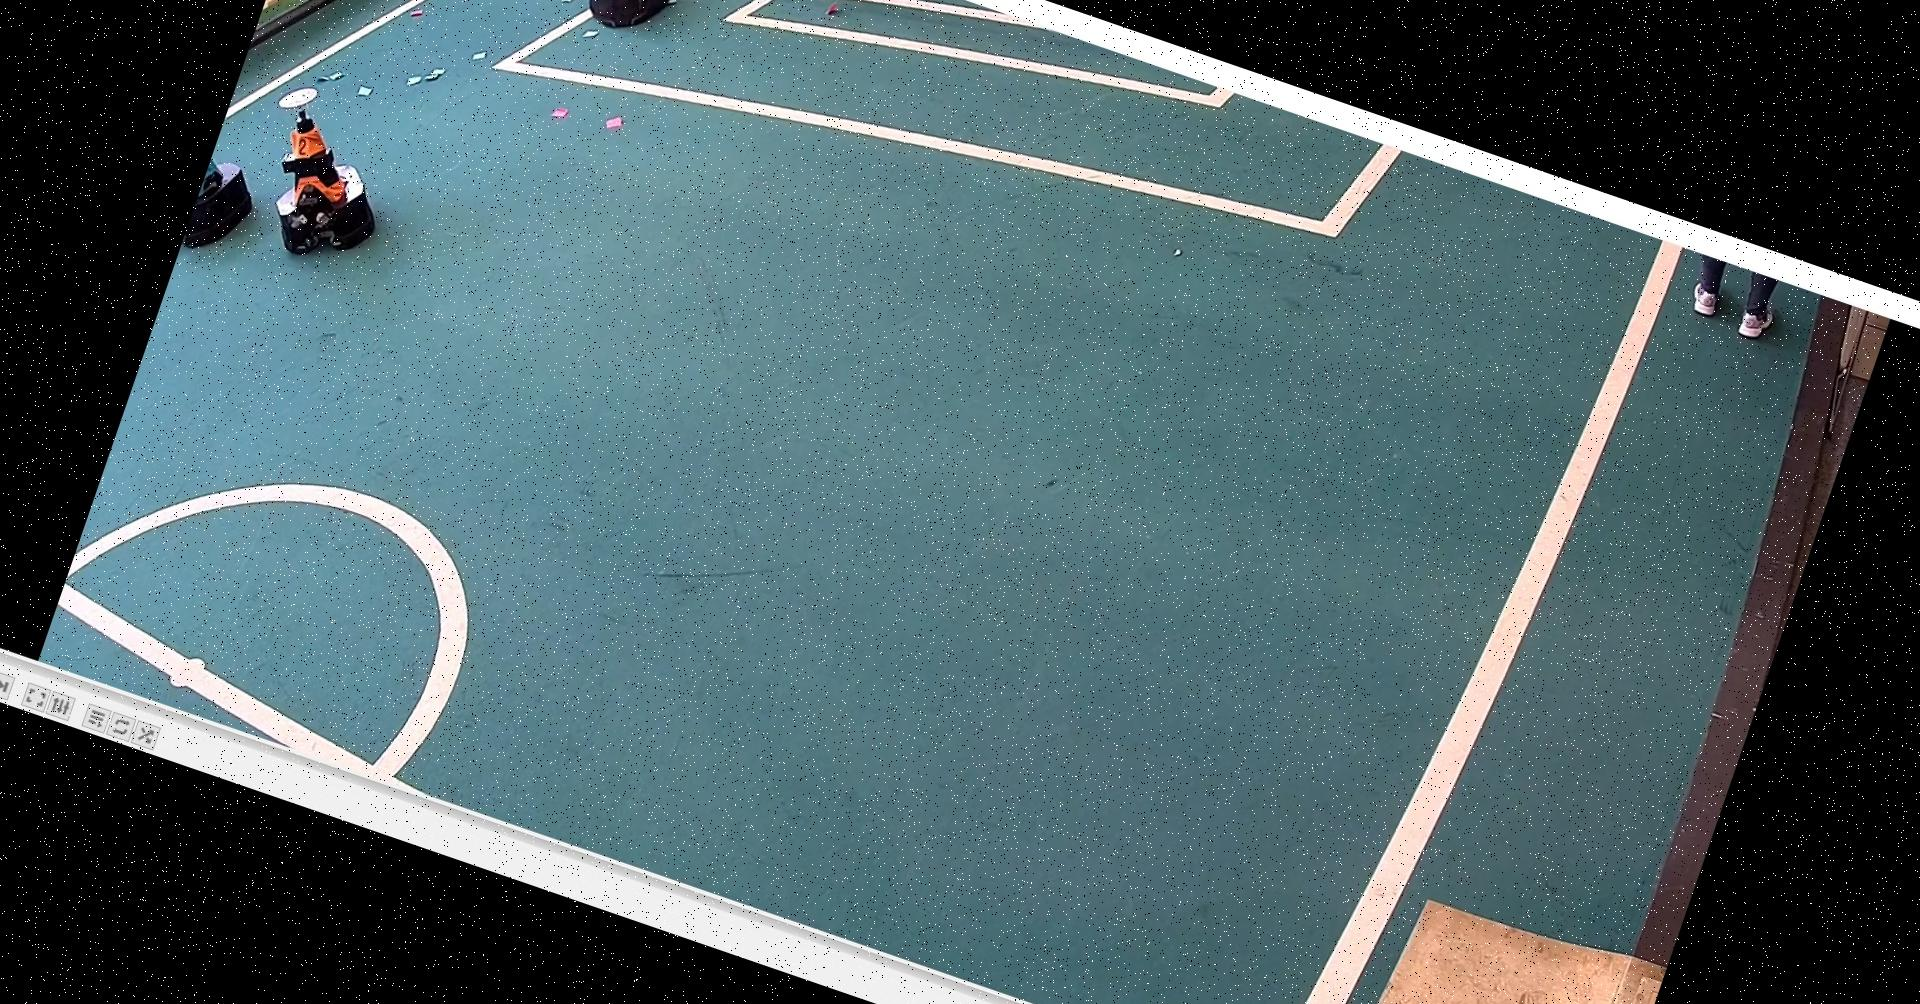Team_Red: (235, 66, 417, 274), (566, 0, 703, 44)
